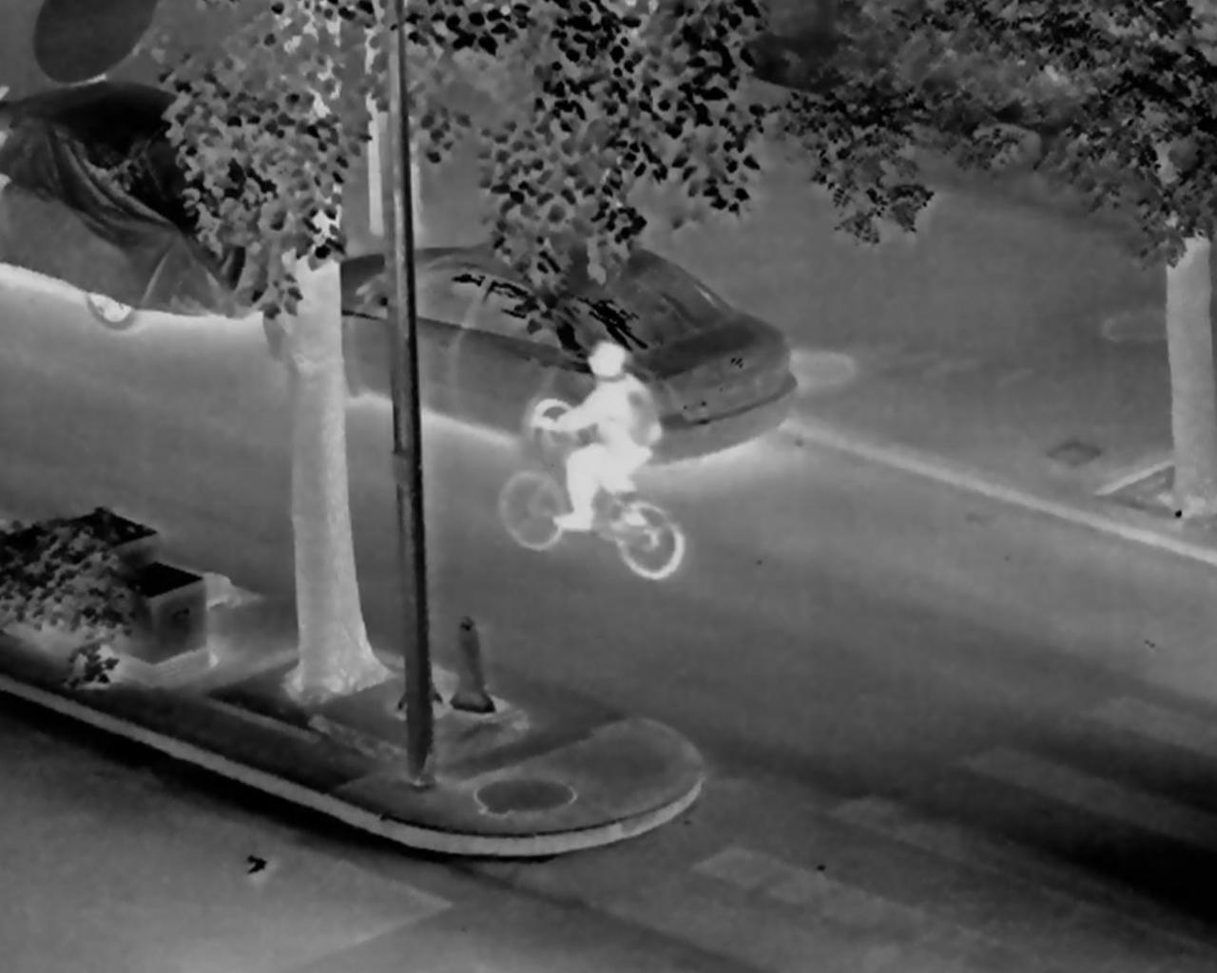person: (533, 342, 657, 535)
